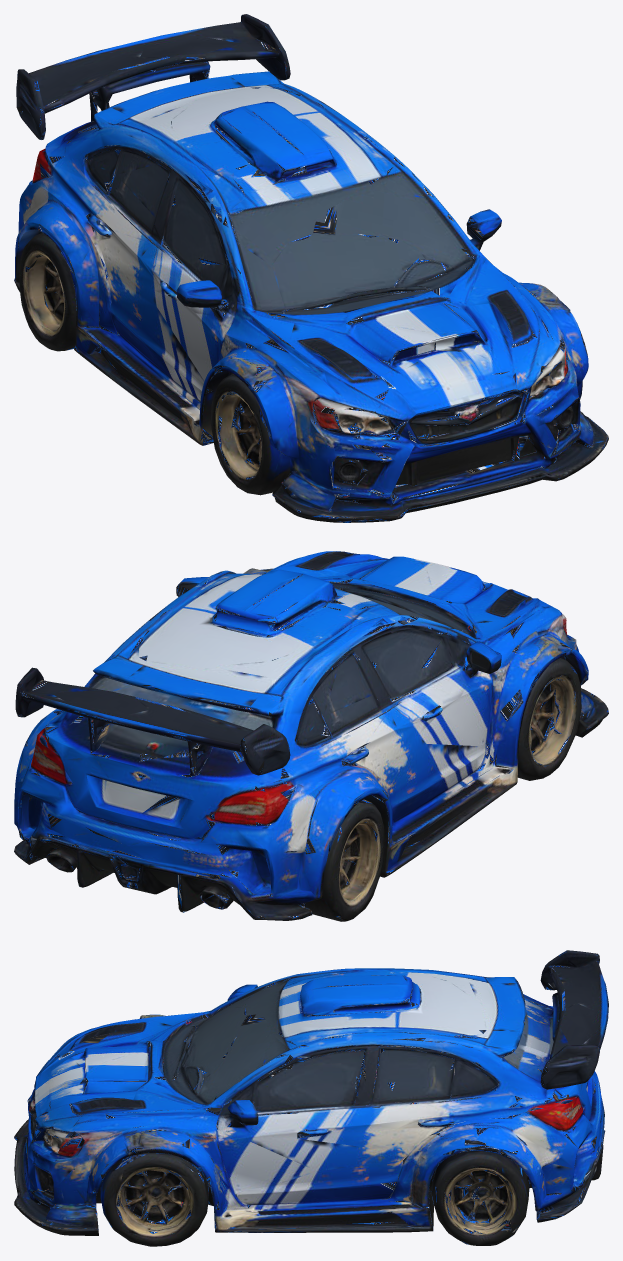
Rendered from custom-racer-05.glb.
The picture shows the model from 3 angles, top to bottom: view 1: azimuth 30°, elevation 25°; view 2: azimuth 150°, elevation 25°; view 3: azimuth 270°, elevation 25°; orthographic projection. The views are drawn at different scales.
Visible parts, largest first — view 1: custom-05-source-static-mesh; view 2: custom-05-source-static-mesh; view 3: custom-05-source-static-mesh.
Part boxes in pixels (x1,y1,x2,y2): custom-05-source-static-mesh: (14, 14, 608, 522); custom-05-source-static-mesh: (14, 551, 608, 921); custom-05-source-static-mesh: (14, 950, 608, 1246).
Bounding box in the file's own units: 2.5 × 1.79 × 4.8.
1 material, 1 textured.
